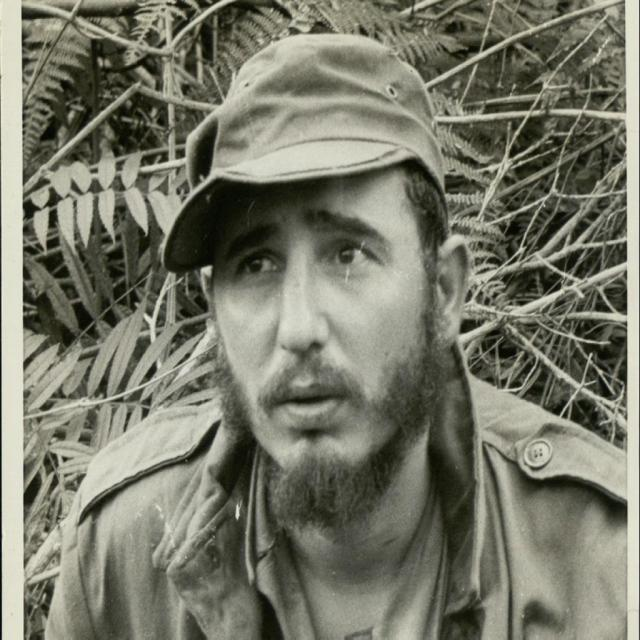Hat: (160, 29, 448, 266)
